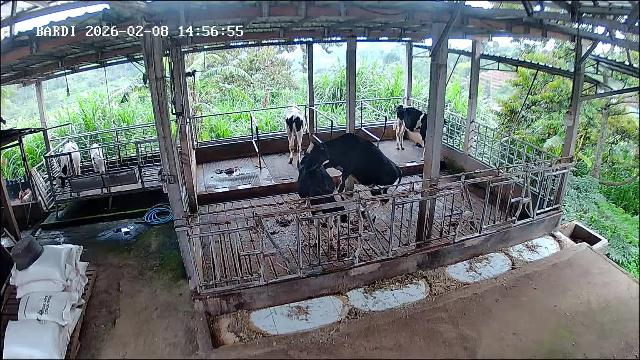mounting: (301, 135, 402, 221)
